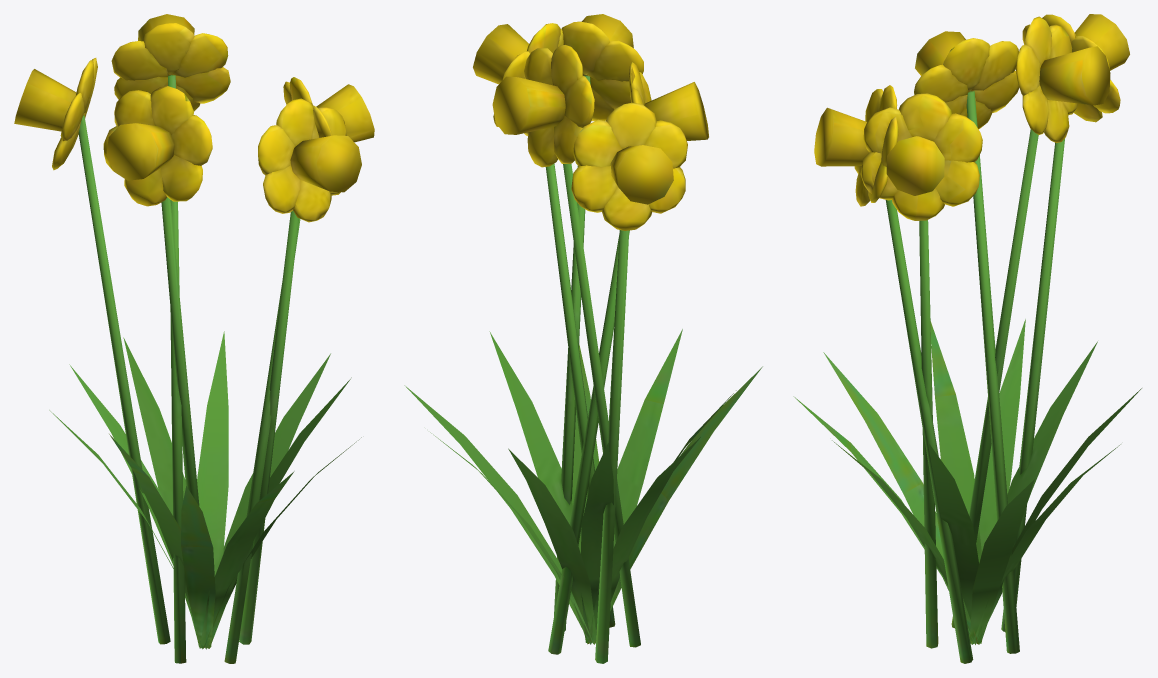
File: crop_daffodil.glb
3 views of the same model, side by side, from view 1: azimuth 30°, elevation 25°; view 2: azimuth 150°, elevation 25°; view 3: azimuth 270°, elevation 25° (orthographic). The views are drawn at different scales.
Visible parts, largest first — view 1: crop_daffodil, fruit; view 2: crop_daffodil, fruit; view 3: crop_daffodil, fruit.
Part boxes in pixels (<box>): crop_daffodil: <box>49,75,361,663</box>; fruit: <box>14,14,374,222</box>; crop_daffodil: <box>404,75,762,663</box>; fruit: <box>473,14,708,230</box>; crop_daffodil: <box>793,91,1141,663</box>; fruit: <box>814,14,1129,220</box>.
Size of the model in its own units: 0.1579 by 0.3151 by 0.1617.
1 material, 1 textured.
